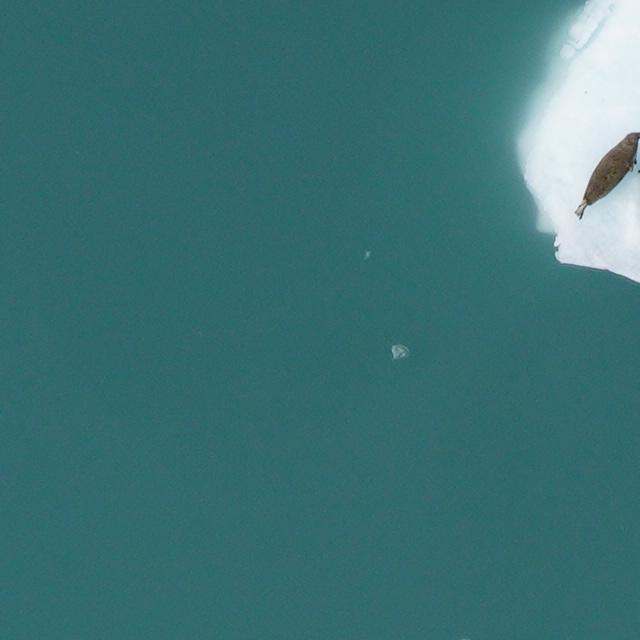seal: (572, 131, 637, 219)
